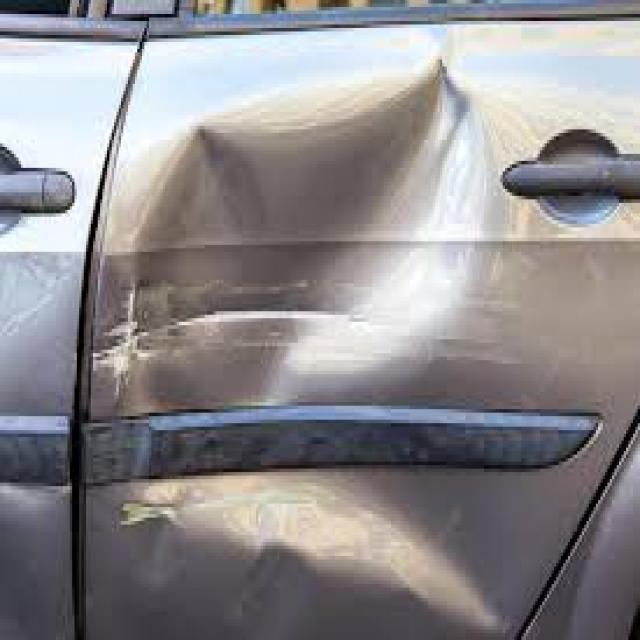minor: (116, 54, 518, 640)
